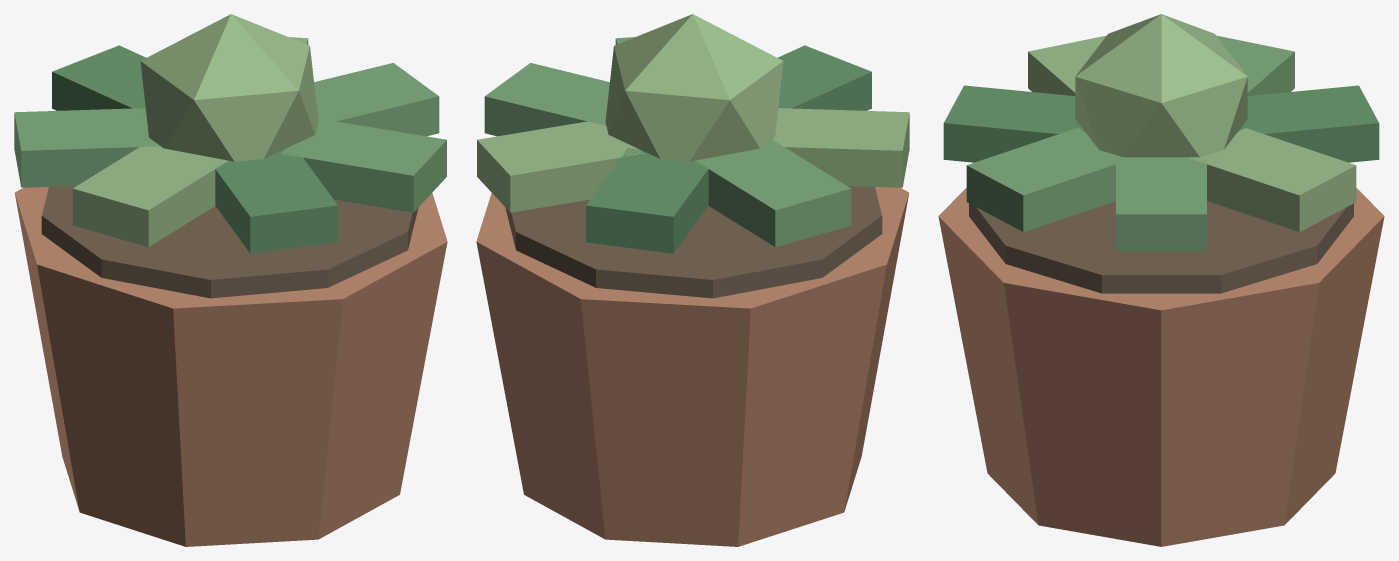
The model's file is pla_suculenta_coz.glb.
3 views of the same model, side by side, from view 1: azimuth 30°, elevation 25°; view 2: azimuth 150°, elevation 25°; view 3: azimuth 270°, elevation 25° (orthographic).
Visible parts, largest first — view 1: PLA_SUCULENTA_COZ_v01; view 2: PLA_SUCULENTA_COZ_v01; view 3: PLA_SUCULENTA_COZ_v01.
Part boxes in pixels (x1=…): PLA_SUCULENTA_COZ_v01: x1=14, y1=14, x2=447, y2=546; PLA_SUCULENTA_COZ_v01: x1=476, y1=14, x2=909, y2=546; PLA_SUCULENTA_COZ_v01: x1=938, y1=14, x2=1384, y2=546.
Bounding box in the file's own units: 0.22 × 0.25 × 0.22.
